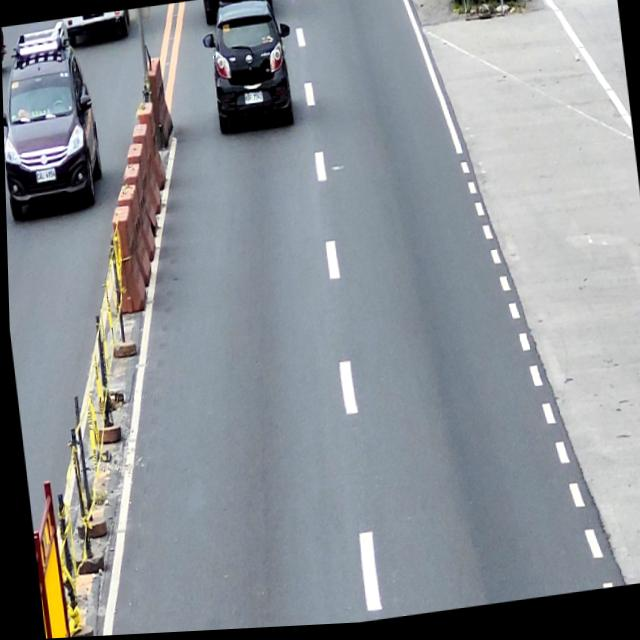Car: (1, 35, 104, 218), (199, 0, 299, 139)
License-Plate: (34, 167, 55, 184), (242, 93, 263, 108)
